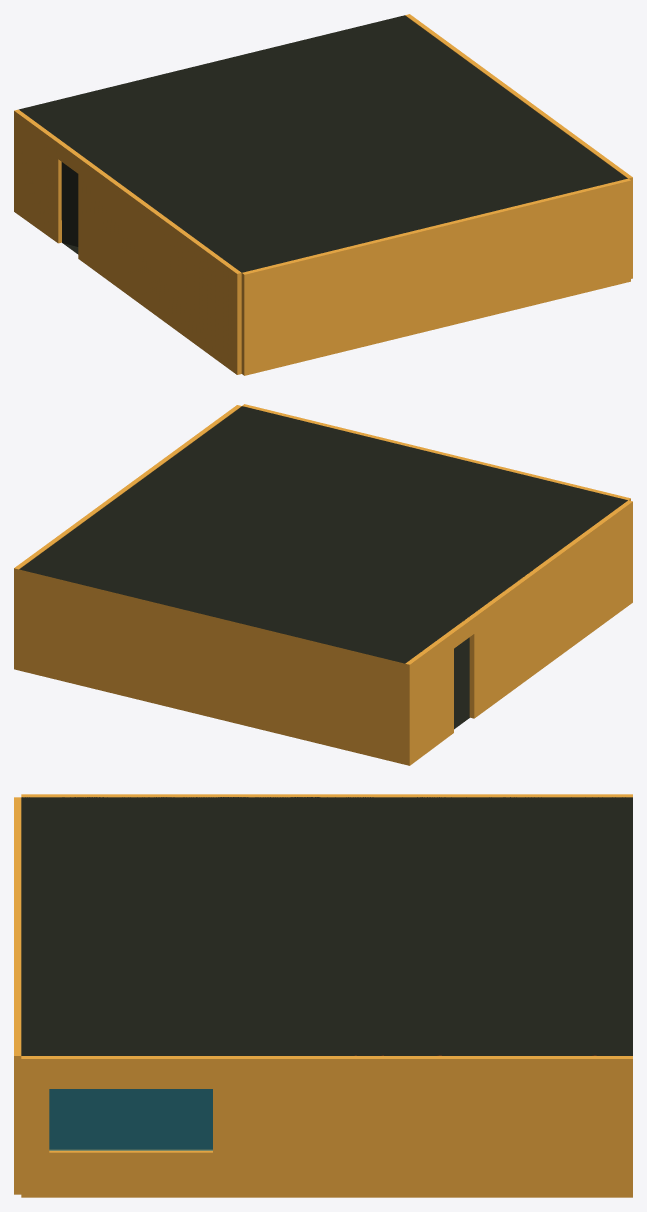
The model's file is room.obj.
3 views of the same model, one above another, from view 1: azimuth 30°, elevation 25°; view 2: azimuth 150°, elevation 25°; view 3: azimuth 270°, elevation 25° (orthographic). The views are drawn at different scales.
Visible parts, largest first — view 1: window, wall.001, wall.003, wall.002, Plane; view 2: window, wall, wall.003, wall.002, floor, wall.001; view 3: window, wall.002, floor, ceiling, wall.001, wall.003.
Part boxes in pixels (left/top/right/bottom): window: left=19, top=15, right=627, bottom=272; wall.001: left=241, top=178, right=630, bottom=375; wall.003: left=14, top=109, right=241, bottom=374; wall.002: left=405, top=14, right=632, bottom=278; Plane: left=61, top=162, right=78, bottom=246; window: left=19, top=406, right=627, bottom=663; wall: left=18, top=569, right=405, bottom=764; wall.003: left=405, top=500, right=632, bottom=765; wall.002: left=14, top=405, right=241, bottom=670; floor: left=454, top=637, right=469, bottom=729; wall.001: left=242, top=404, right=630, bottom=500; window: left=21, top=797, right=632, bottom=1055; wall.002: left=21, top=1056, right=632, bottom=1197; floor: left=21, top=1055, right=632, bottom=1149; ceiling: left=49, top=1089, right=212, bottom=1150; wall.001: left=14, top=797, right=21, bottom=1194; wall.003: left=21, top=794, right=632, bottom=797.
Bounding box in the file's own units: 10.24 × 2.5 × 10.12.
